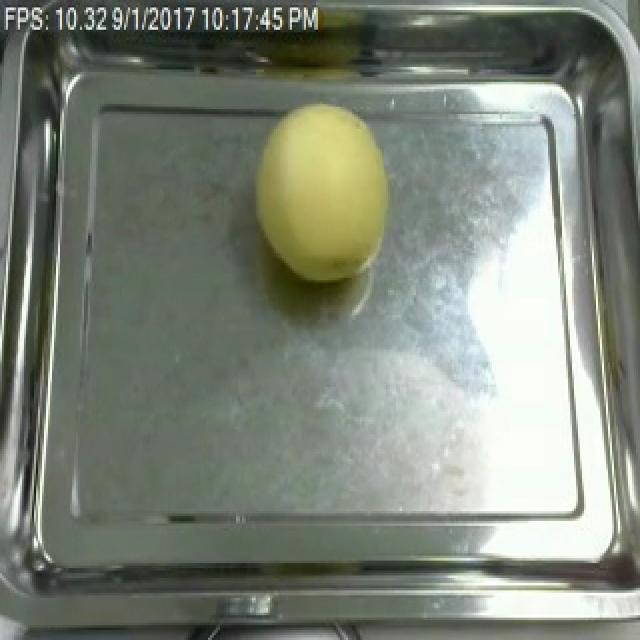Fruit: (246, 94, 396, 288)
